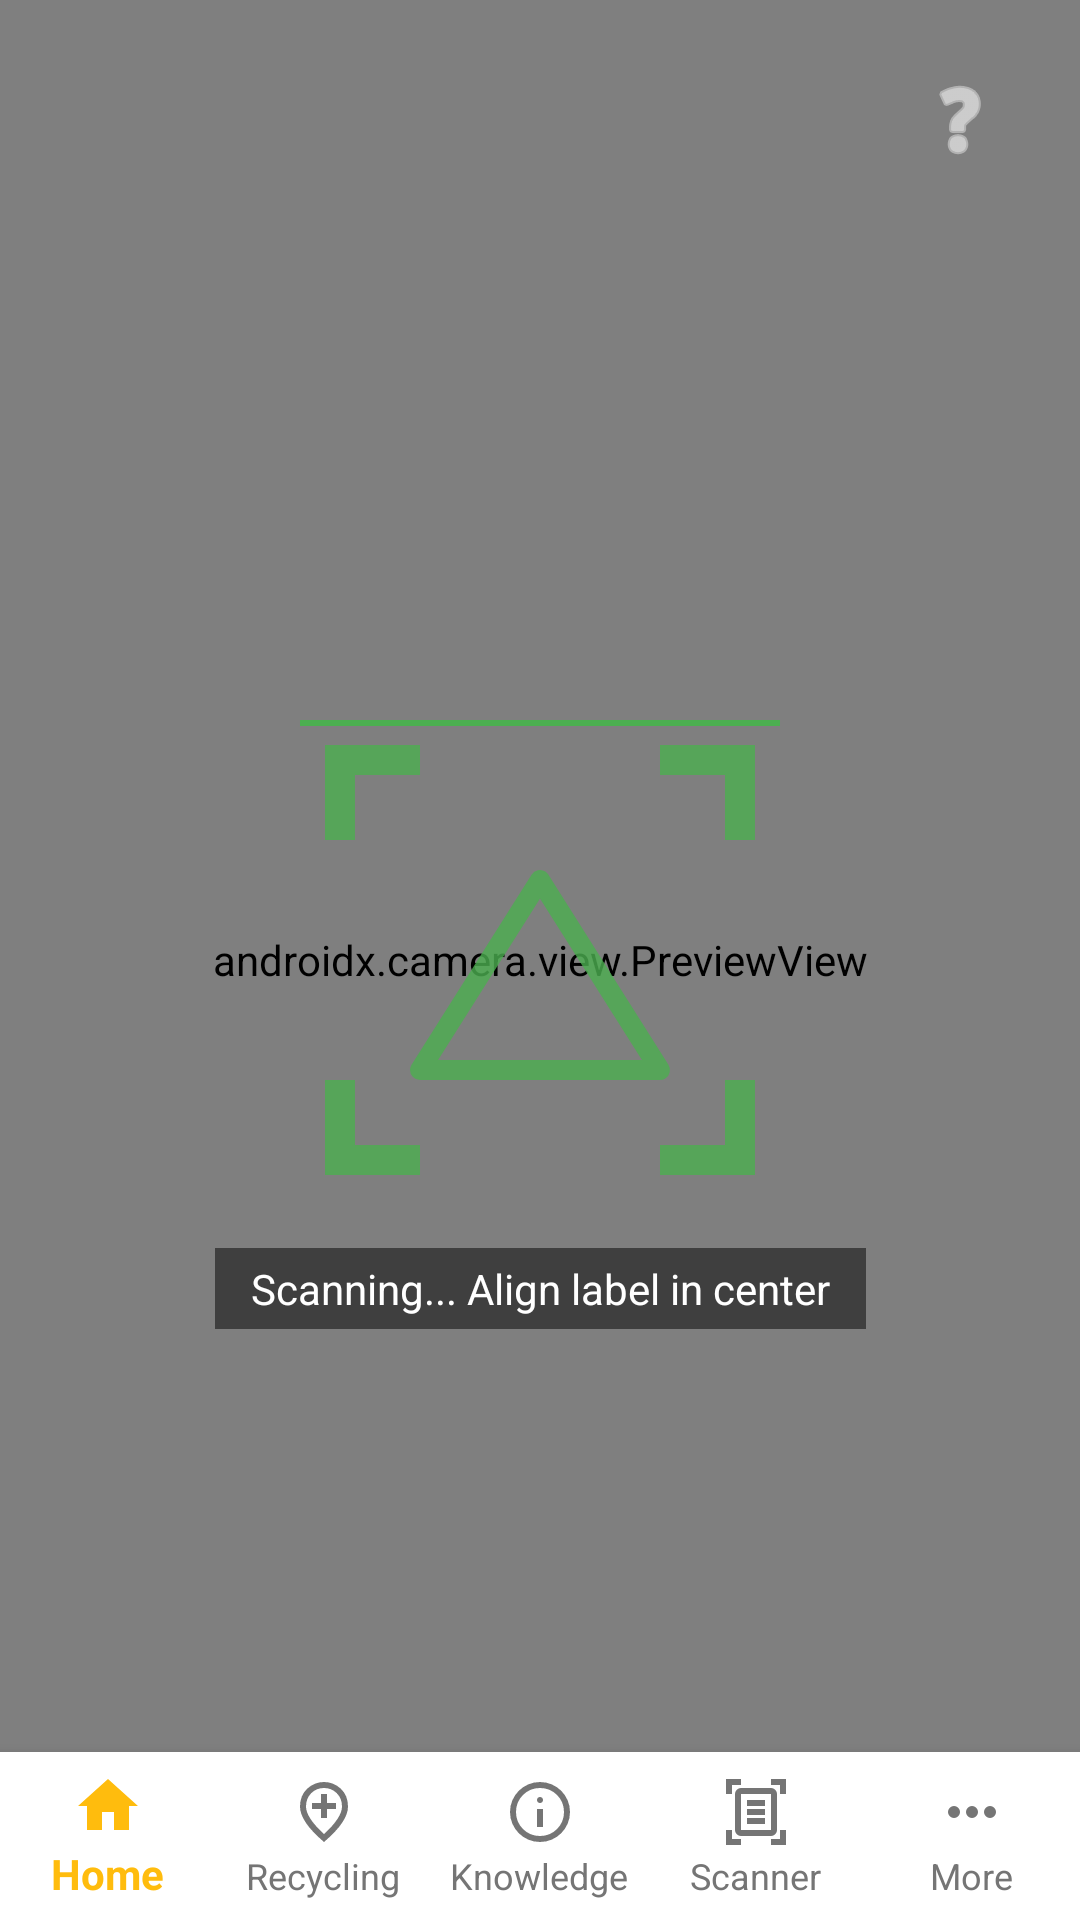

Icon bounding boxes for this 1080×1920 phone screenshot, format (x1, y1, x2, y2):
help: (939, 86, 981, 154)
